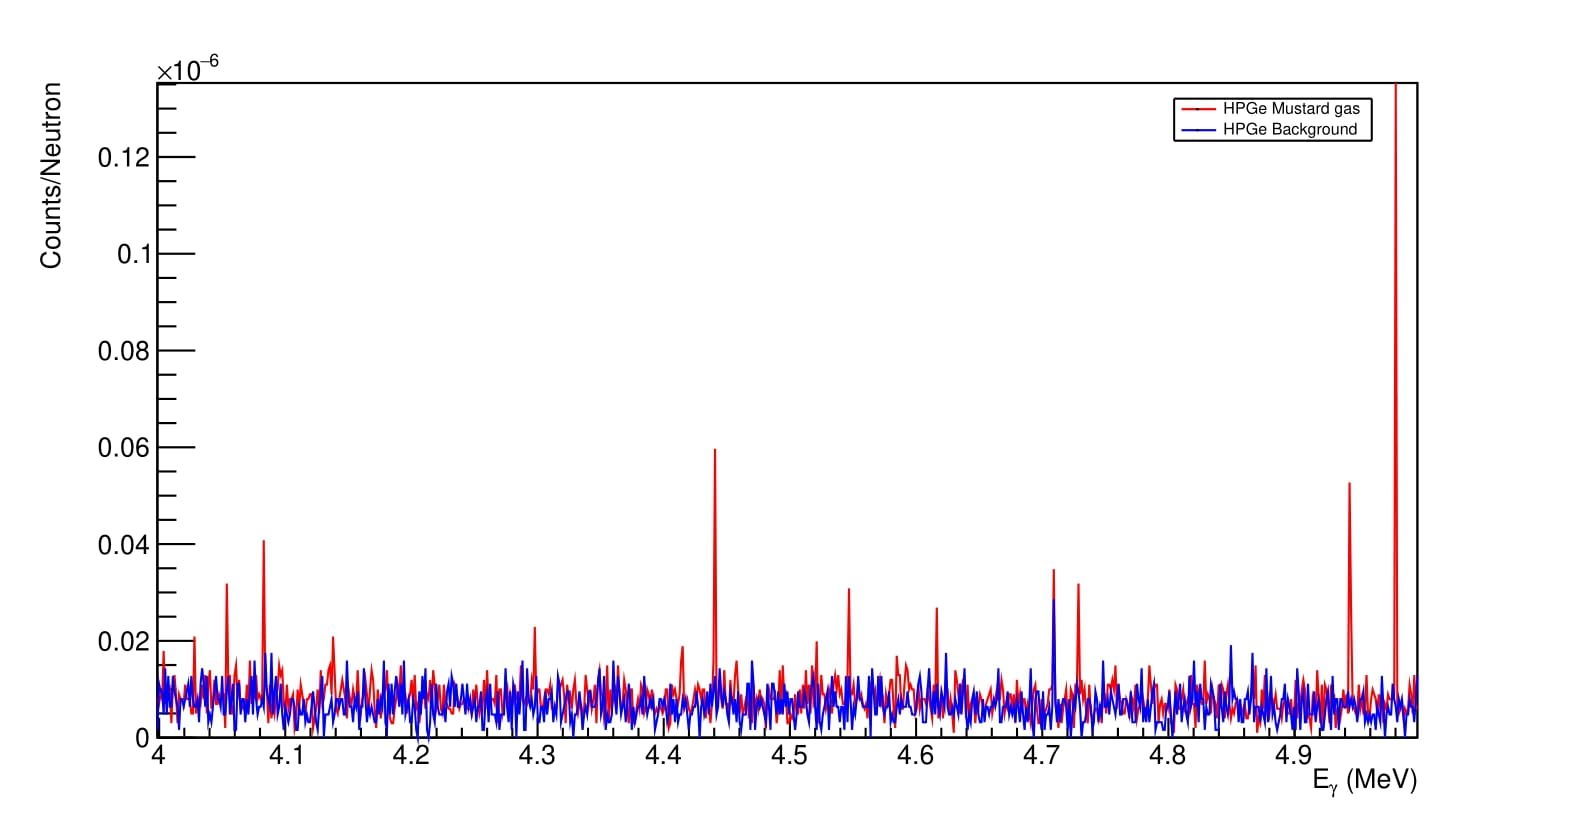gauss: (1385, 94, 1404, 734), (703, 434, 725, 719), (1340, 476, 1359, 742), (252, 535, 278, 732), (1044, 563, 1062, 726), (1072, 586, 1091, 732), (318, 626, 346, 712), (524, 624, 546, 730), (844, 582, 858, 735), (929, 606, 944, 741), (221, 582, 235, 717)
other: (1095, 659, 1328, 734), (369, 664, 500, 720), (561, 678, 681, 717)
